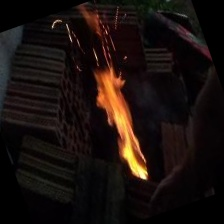fire: (57, 19, 173, 200)
